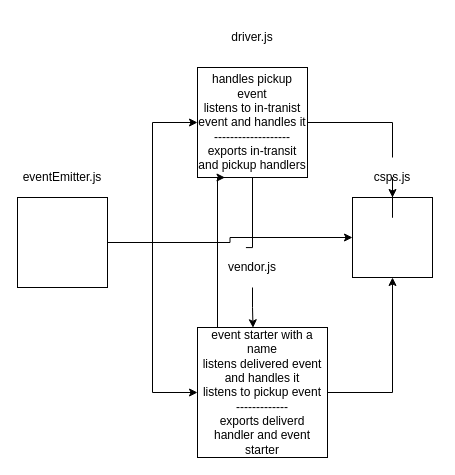
Some shapes in this 455 by 475 pixel diagram are drawn without their labels. Each missing label, with the centre of its shape:
creates a global event pool -------------- exports eventEmitter: the point at 62,242
start all events: the point at 392,237
